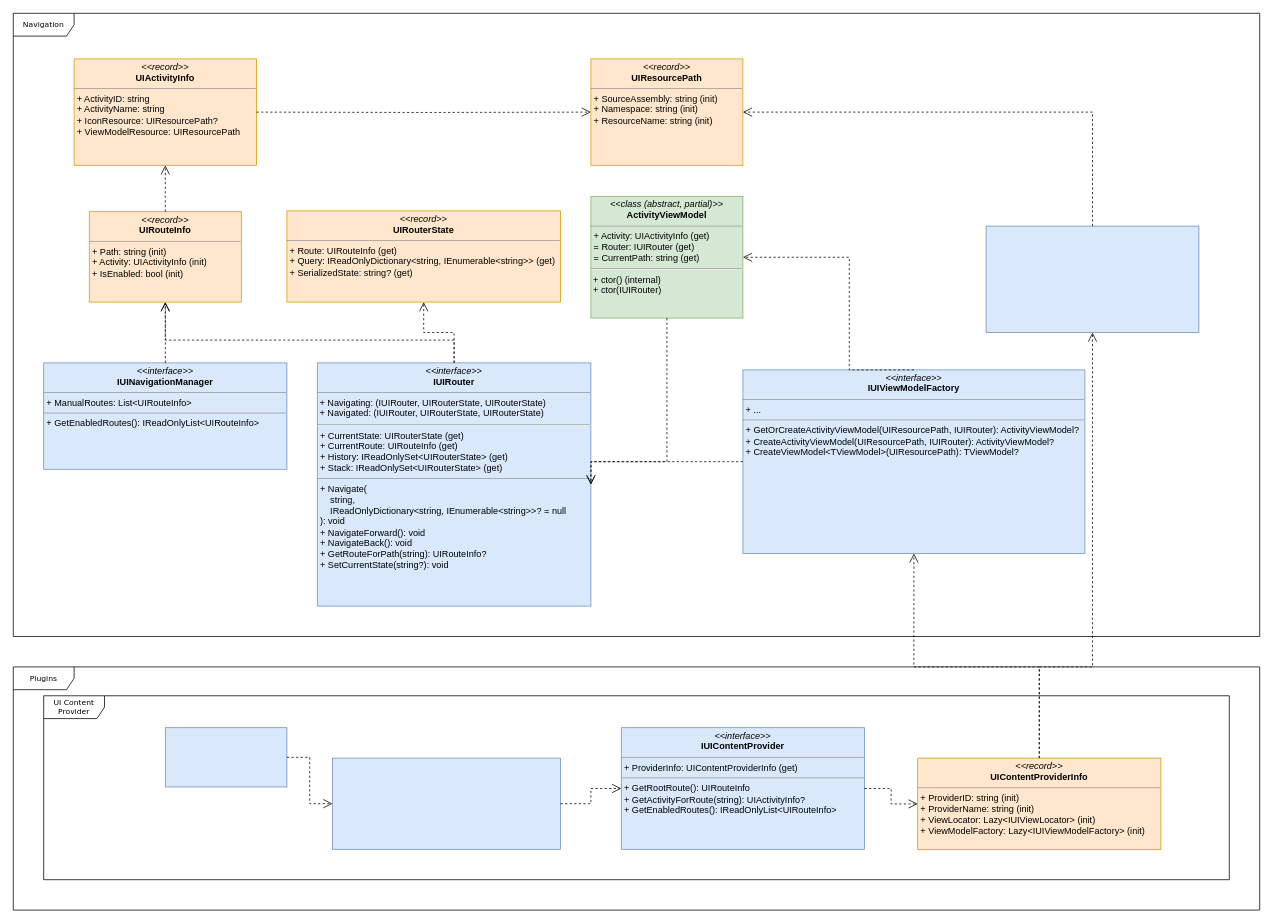
Image size: 1273x923. Some labels were removed from this diagram. The centre of each missing label's shape, as x and y in pixels:
"<<interface>> IUIContentProviderFeature + Provider: IUIContentProvider + ..." goes at [446,803].
"<<interface>> IUIViewLocator + ... + FindViewByViewModel(UIResourcePath): Type?" goes at [1092,278].
"«interface» IFeature" goes at [226,757].
